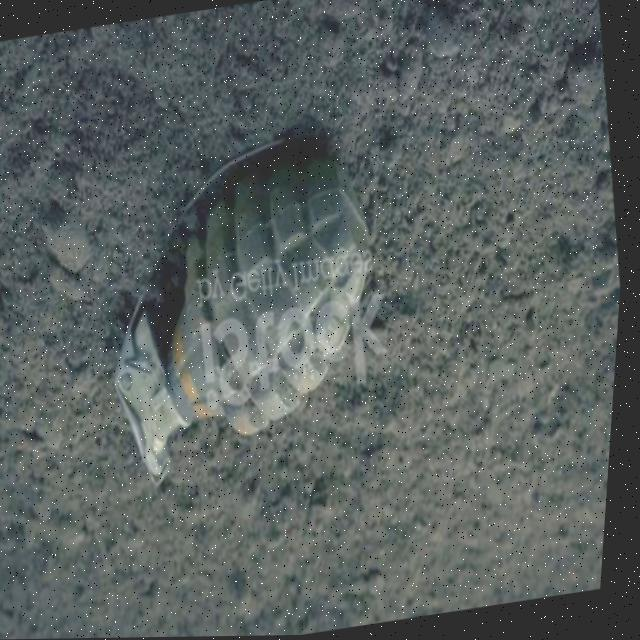grenade: (83, 137, 411, 498)
